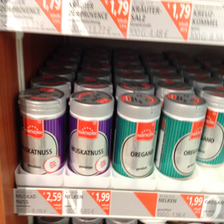spices: (157, 93, 207, 180), (17, 87, 67, 173), (68, 90, 115, 177), (116, 93, 161, 181)
